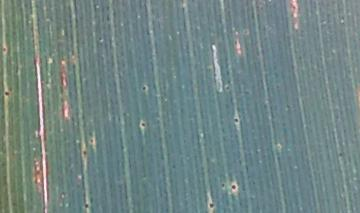tarspot: (230, 114, 244, 126), (228, 181, 240, 194), (80, 200, 92, 212), (1, 88, 12, 100), (138, 119, 149, 131), (206, 200, 218, 211), (139, 84, 150, 94), (80, 147, 90, 158), (86, 136, 97, 145)
